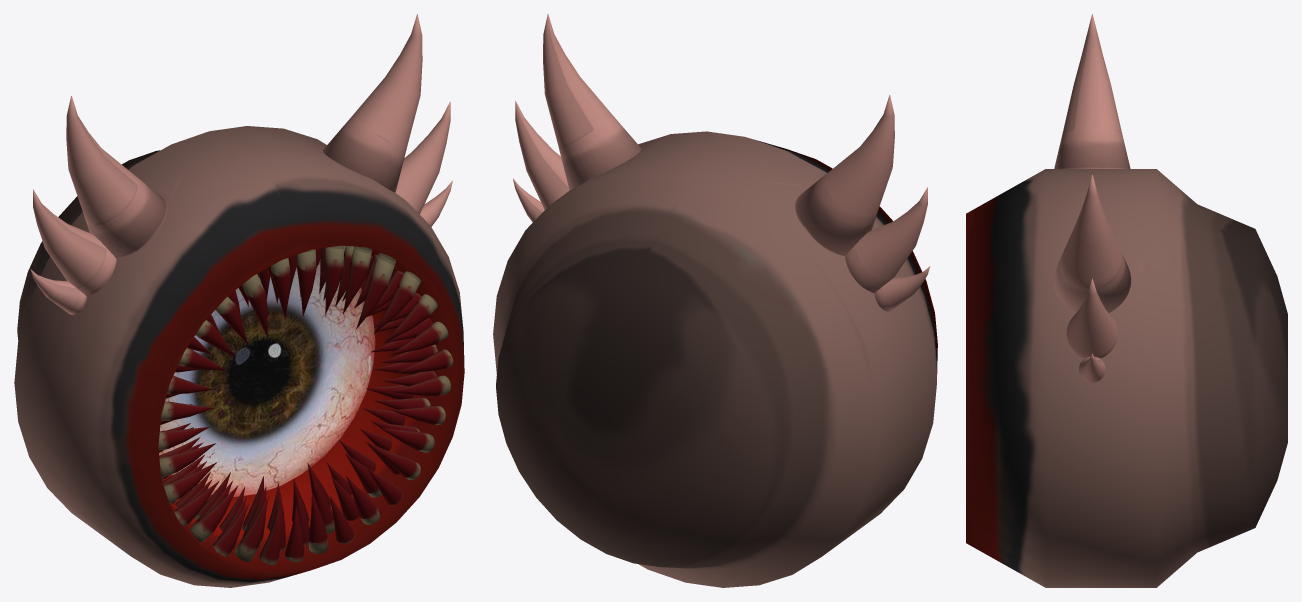
The model's file is creature fixed.fbx.
The picture shows the model from 3 angles, left to right: view 1: azimuth 30°, elevation 25°; view 2: azimuth 150°, elevation 25°; view 3: azimuth 270°, elevation 25°; orthographic projection. The views are drawn at different scales.
Visible parts, largest first — view 1: Cylinder.003; view 2: Cylinder.003; view 3: Cylinder.003.
Boxes of the visible parts, bbox=[...] form: Cylinder.003: bbox=[14, 14, 464, 587]; Cylinder.003: bbox=[493, 14, 937, 587]; Cylinder.003: bbox=[966, 14, 1287, 587].
Bounding box in the file's own units: 509 × 588 × 360.
